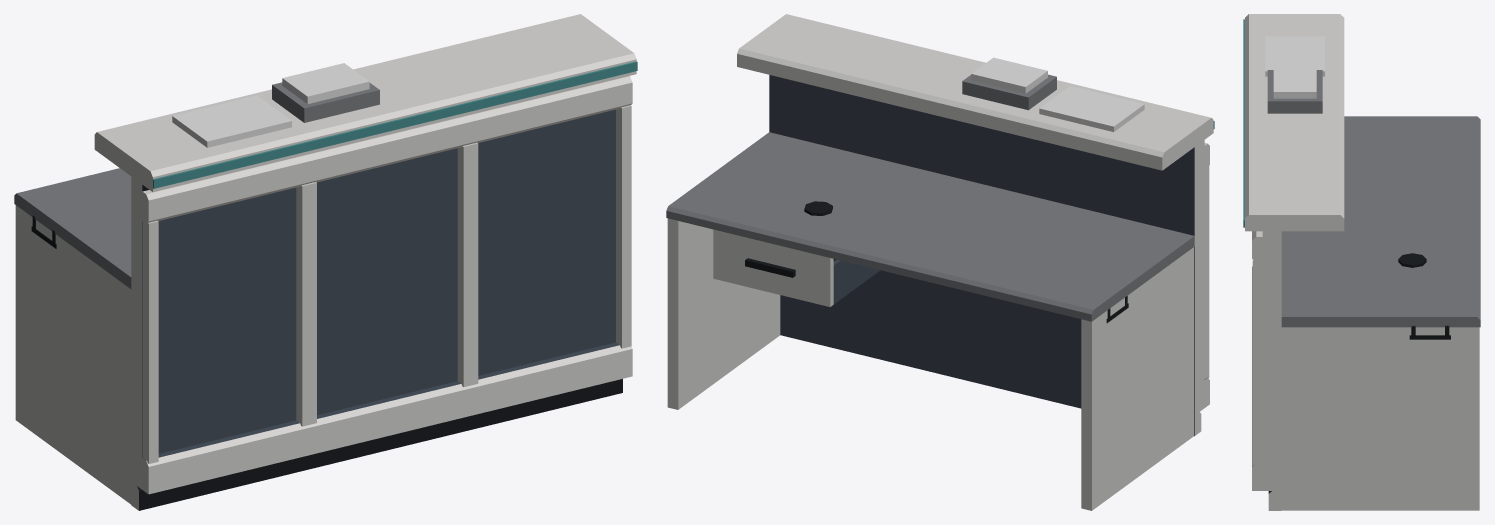
The model's file is reception-counter-module-7a9c01.glb.
The picture shows the model from 3 angles, left to right: view 1: azimuth 30°, elevation 25°; view 2: azimuth 150°, elevation 25°; view 3: azimuth 270°, elevation 25°; orthographic projection. The views are drawn at different scales.
Parts seen in each view (by area): view 1: counter, clutter; view 2: counter, drawer, clutter; view 3: counter, clutter.
Part boxes in pixels (left/top/right/bottom): counter: left=14, top=14, right=637, bottom=510; clutter: left=172, top=63, right=379, bottom=147; counter: left=666, top=14, right=1214, bottom=510; drawer: left=713, top=229, right=879, bottom=306; clutter: left=962, top=57, right=1144, bottom=131; counter: left=1243, top=14, right=1480, bottom=510; clutter: left=1265, top=36, right=1324, bottom=113.
Size of the model in its own units: 1.6 by 1.17 by 0.8.
